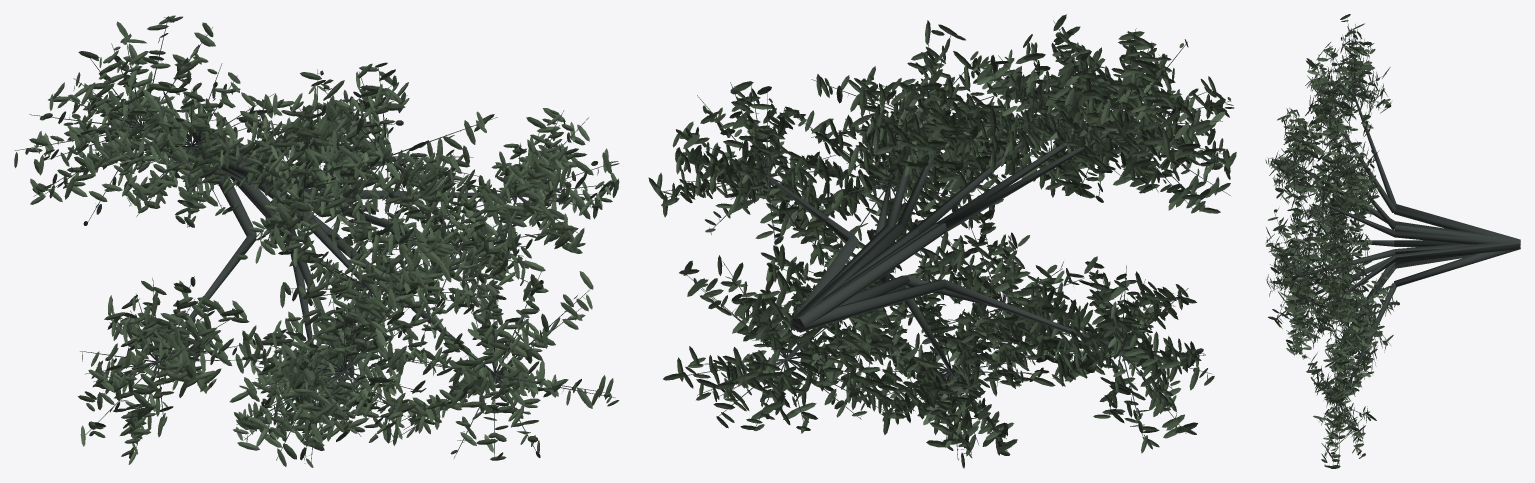
The model's file is tree_m5.obj.
3 views of the same model, side by side, from view 1: azimuth 30°, elevation 25°; view 2: azimuth 150°, elevation 25°; view 3: azimuth 270°, elevation 25° (orthographic). The views are drawn at different scales.
Bounding box in the file's own units: 1.69 × 1.4 × 1.01.
Materials: 1 (1 with a texture image).
